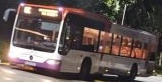bus: (21, 5, 33, 14)
